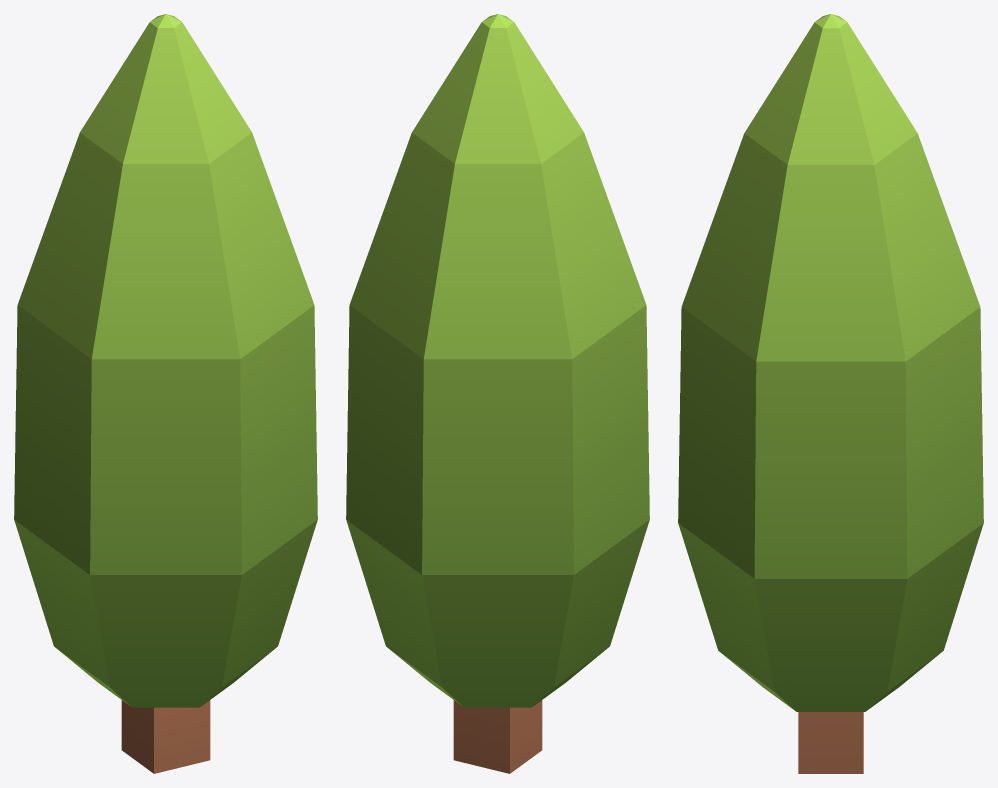
The model's file is tree 7.fbx.
3 renders of one model, left to right at view 1: azimuth 30°, elevation 25°; view 2: azimuth 150°, elevation 25°; view 3: azimuth 270°, elevation 25°, orthographic.
Parts seen in each view (by area): view 1: tree_7; view 2: tree_7; view 3: tree_7.
Boxes of the visible parts, box(x1,y1,x2,y2) form: tree_7: box(14, 14, 317, 773); tree_7: box(346, 14, 649, 773); tree_7: box(678, 14, 983, 773).
Size of the model in its own units: 111 by 345 by 128.
1 material, 1 textured.
